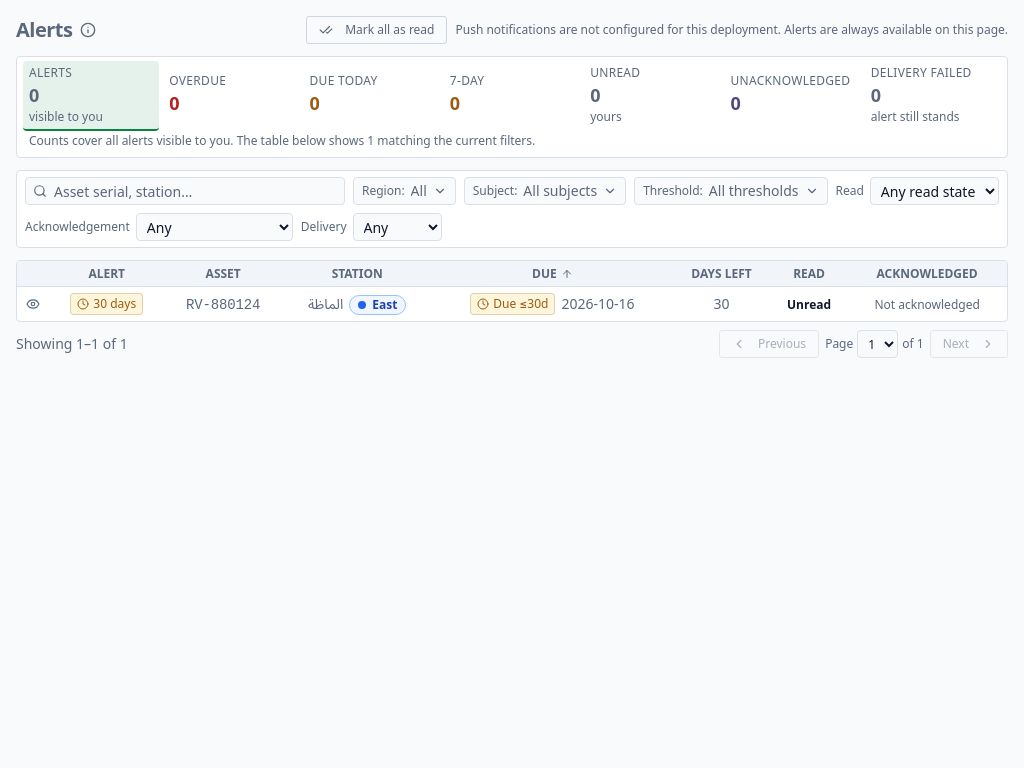
Test case: Hierarchy and navigation › never fabricates a Unit URL for an unresolved Unit
Expected: the text "RV-880124" is shown, [186,296,260,312]
Click the button named "show the full technical record": click(33, 304) [23,294,43,314]
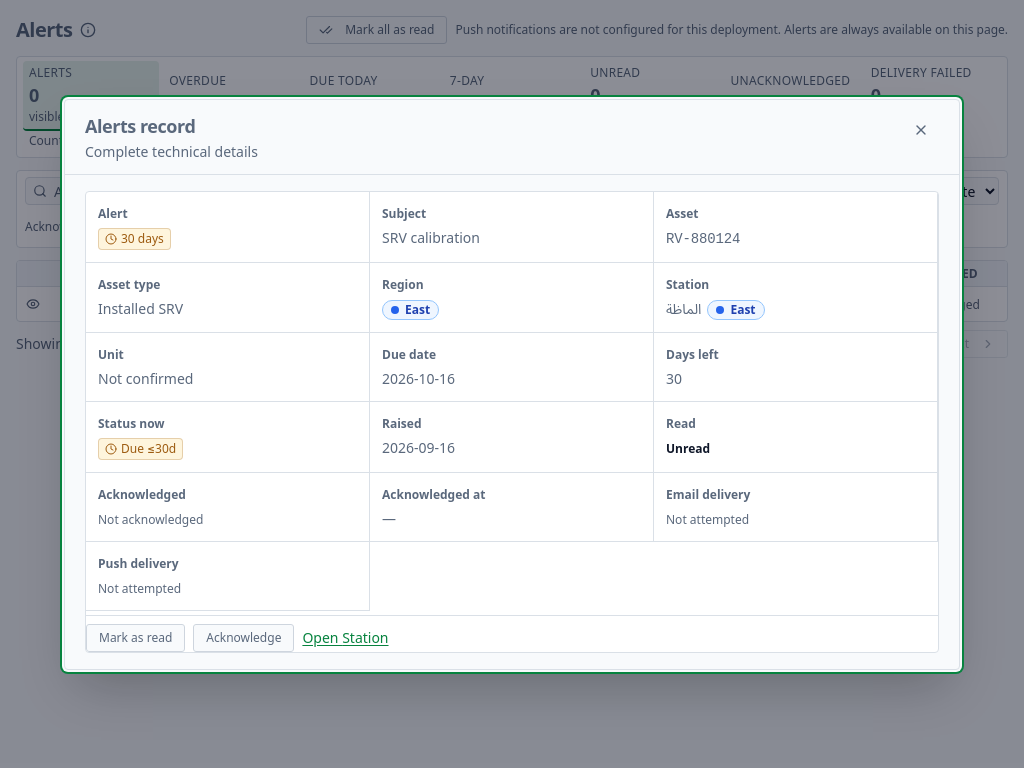
Now the text "Not confirmed" is shown, box [98,368,194,388]
Now the link "Open Station" is shown, box [302,628,388,648]
